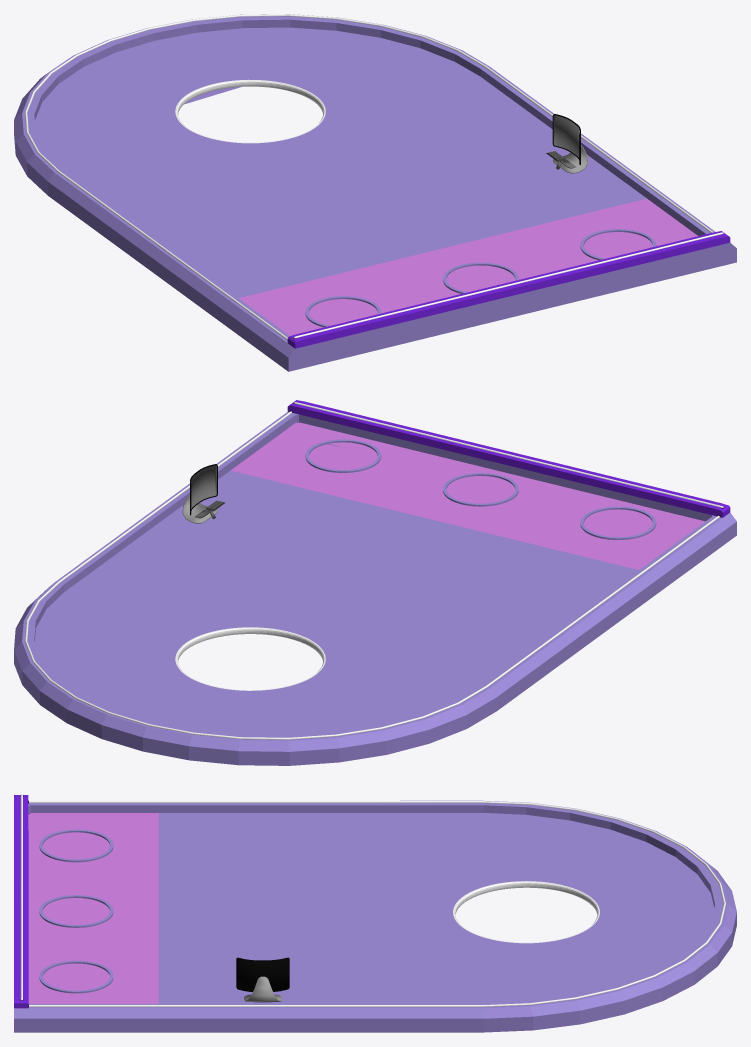
The model's file is 3HolePlatform.fbx.
3 views of the same model, one above another, from view 1: azimuth 30°, elevation 25°; view 2: azimuth 150°, elevation 25°; view 3: azimuth 270°, elevation 25° (orthographic). The views are drawn at different scales.
Parts seen in each view (by area): view 1: 3HolePlatform, Bilgisayar; view 2: 3HolePlatform, Bilgisayar; view 3: 3HolePlatform, Bilgisayar.
Boxes of the visible parts, x1=… form: 3HolePlatform: x1=14, y1=14, x2=736, y2=371; Bilgisayar: x1=546, y1=114, x2=587, y2=173; 3HolePlatform: x1=14, y1=400, x2=736, y2=765; Bilgisayar: x1=182, y1=464, x2=225, y2=523; 3HolePlatform: x1=14, y1=794, x2=736, y2=1032; Bilgisayar: x1=236, y1=957, x2=289, y2=1002.
Bounding box in the file's own units: 2498 × 298 × 3568.
